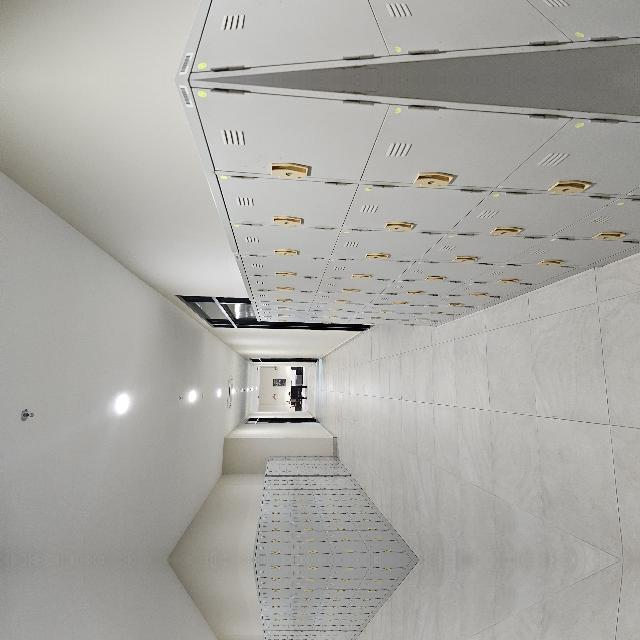obstacle: (231, 255, 479, 640), (231, 401, 479, 640), (0, 346, 104, 454), (148, 367, 194, 387)
